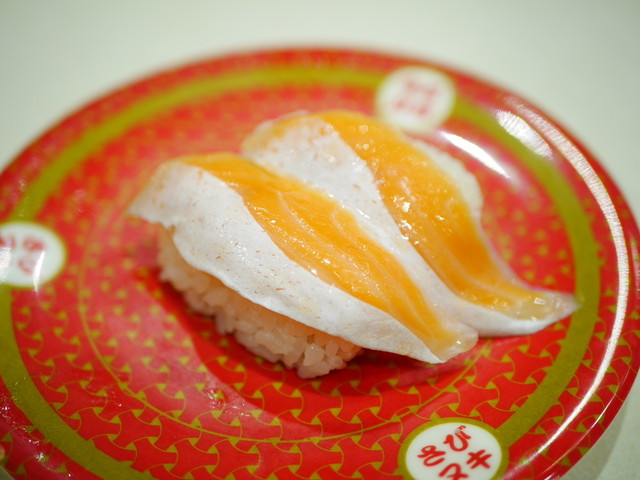salmon: (134, 111, 581, 365)
